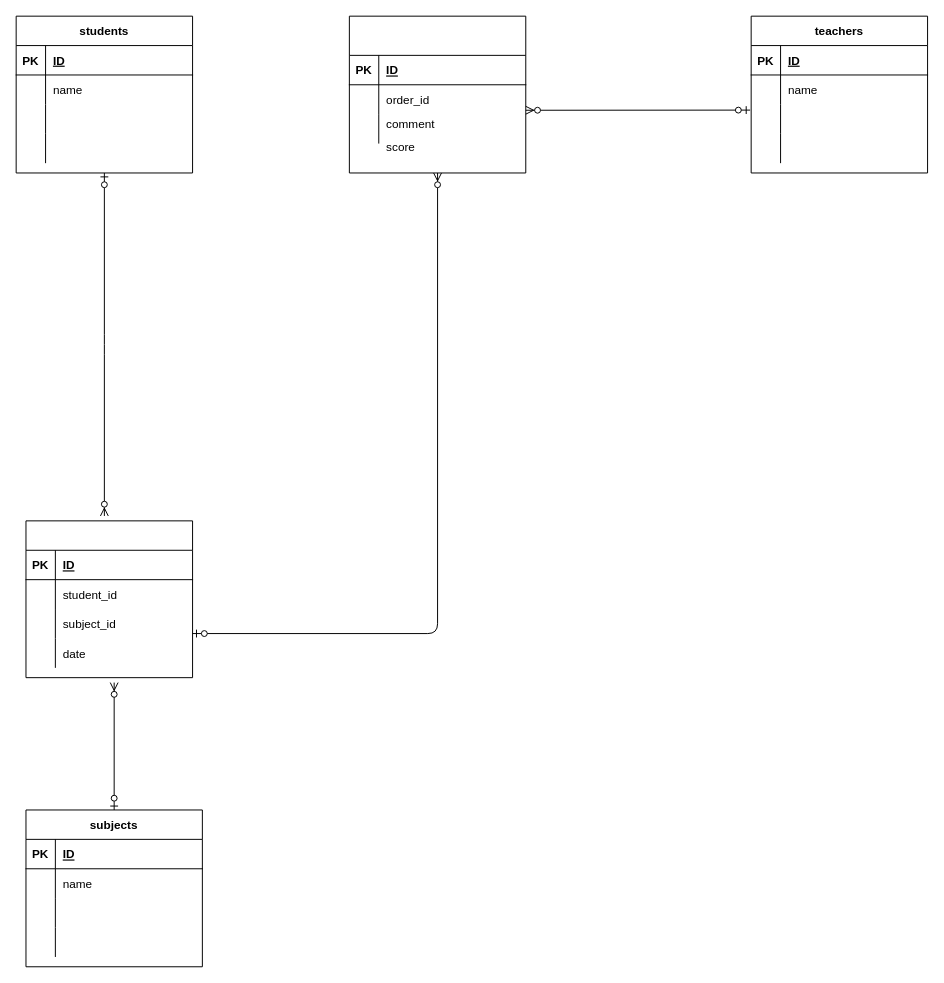
Image size: 944x983. Some labels were removed from this diagram. Each missing label, with the box of its shape:
exam: (348, 15, 526, 173)
orders: (25, 520, 193, 678)
